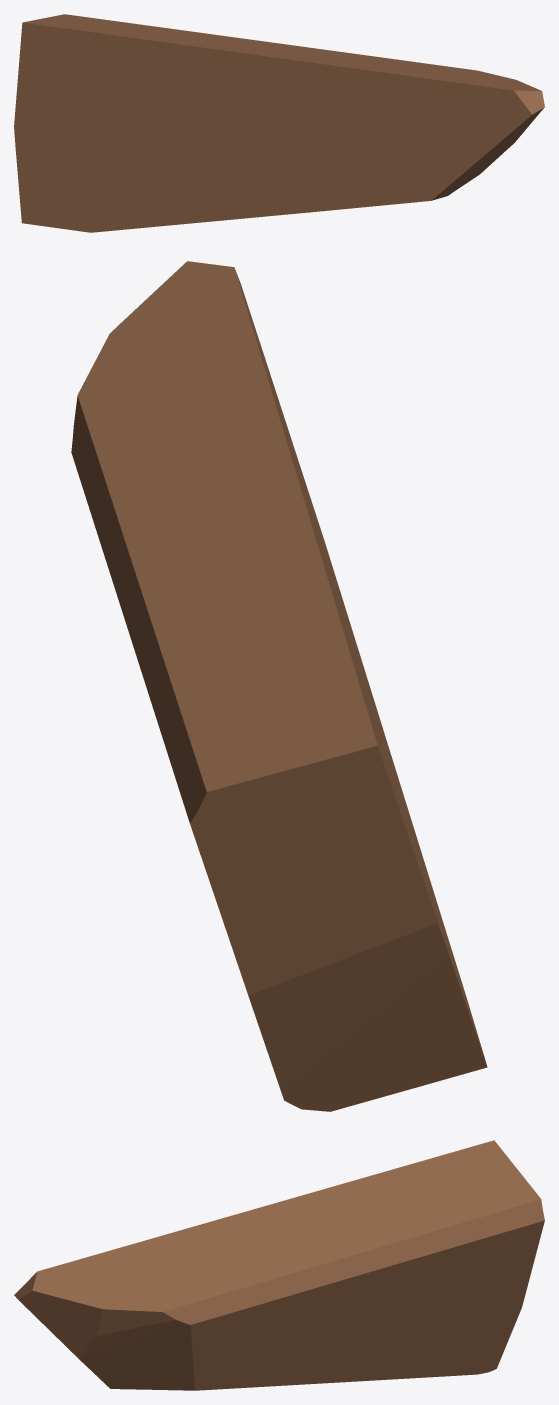
Rendered from WoodCellCube_003_cell_047.fbx.
3 renders of one model, top to bottom at view 1: azimuth 30°, elevation 25°; view 2: azimuth 150°, elevation 25°; view 3: azimuth 270°, elevation 25°, orthographic. The views are drawn at different scales.
Parts seen in each view (by area): view 1: WoodCellCube_003_cell_047; view 2: WoodCellCube_003_cell_047; view 3: WoodCellCube_003_cell_047.
Part boxes in pixels (x1,y1,x2,y2): WoodCellCube_003_cell_047: [14, 14, 544, 232]; WoodCellCube_003_cell_047: [71, 261, 487, 1111]; WoodCellCube_003_cell_047: [14, 1140, 544, 1390].
Size of the model in its own units: 1.1 by 0.5282 by 0.8894.
1 material, 1 textured.
